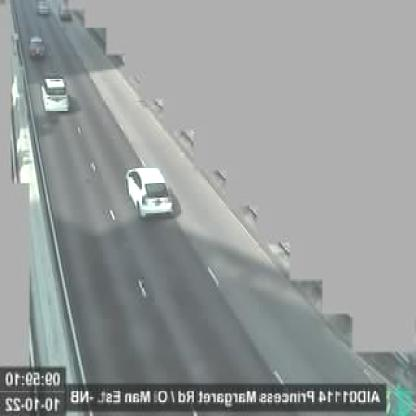Car: (125, 165, 175, 223), (42, 74, 70, 117), (30, 35, 46, 58), (58, 3, 70, 21), (36, 1, 50, 16)
